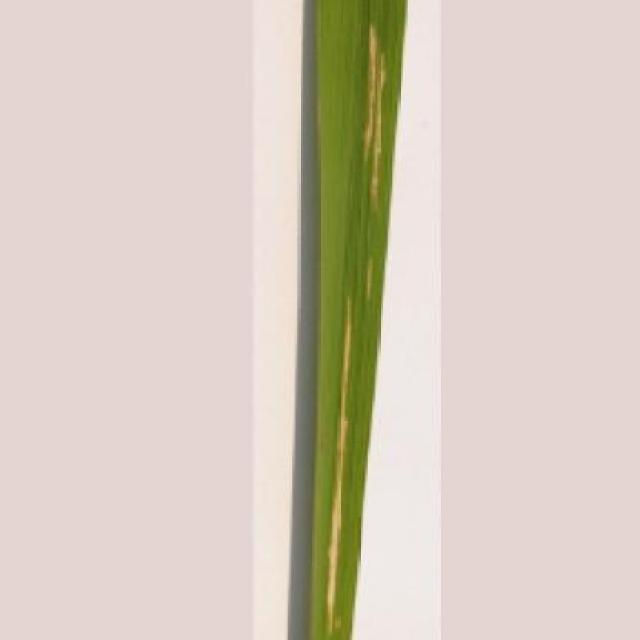Brown_Spot: (303, 0, 412, 640)
